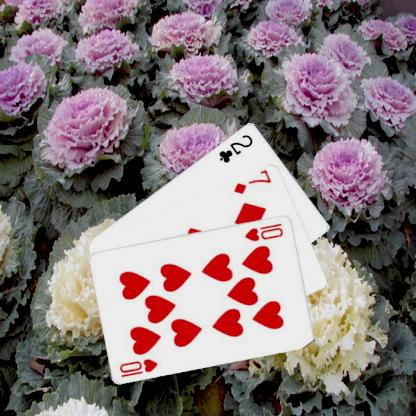10H: (242, 220, 285, 242), (117, 356, 159, 378)
2C: (216, 131, 254, 164)
7D: (230, 168, 272, 196)
